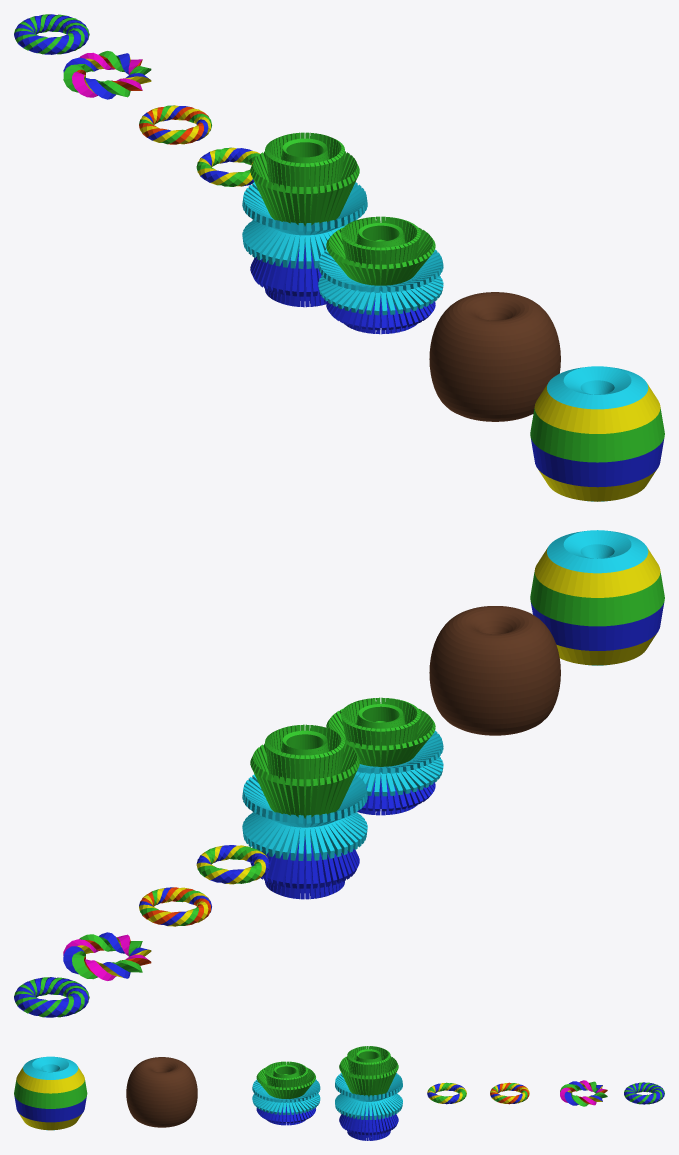
The model's file is ColorProps.fbx.
3 views of the same model, one above another, from view 1: azimuth 30°, elevation 25°; view 2: azimuth 150°, elevation 25°; view 3: azimuth 270°, elevation 25° (orthographic). The views are drawn at different scales.
Parts seen in each view (by area): view 1: Torus.006, Torus.007, Torus, Torus.003, Torus.001, Torus.004, Torus.002, Torus.005; view 2: Torus.006, Torus.007, Torus, Torus.003, Torus.001, Torus.004, Torus.002, Torus.005; view 3: Torus.006, Torus.007, Torus, Torus.003, Torus.001, Torus.004, Torus.005, Torus.002.
Part boxes in pixels (<box>): Torus.006: <box>242,132,367,307</box>; Torus.007: <box>530,366,664,501</box>; Torus: <box>429,292,560,421</box>; Torus.003: <box>318,216,443,334</box>; Torus.001: <box>63,51,151,99</box>; Torus.004: <box>14,14,89,54</box>; Torus.002: <box>139,105,211,144</box>; Torus.005: <box>196,147,260,186</box>; Torus.006: <box>242,724,367,899</box>; Torus.007: <box>530,530,664,665</box>; Torus: <box>429,606,560,735</box>; Torus.003: <box>326,697,443,815</box>; Torus.001: <box>63,932,151,980</box>; Torus.004: <box>14,977,89,1017</box>; Torus.002: <box>139,887,211,926</box>; Torus.005: <box>196,845,269,884</box>; Torus.006: <box>335,1046,402,1140</box>; Torus.007: <box>14,1056,87,1130</box>; Torus: <box>126,1057,197,1127</box>; Torus.003: <box>252,1061,320,1125</box>; Torus.001: <box>560,1080,607,1106</box>; Torus.004: <box>624,1082,664,1104</box>; Torus.005: <box>427,1082,466,1104</box>; Torus.002: <box>490,1082,529,1104</box>.
Size of the model in its own units: 459 by 541 by 4077.
